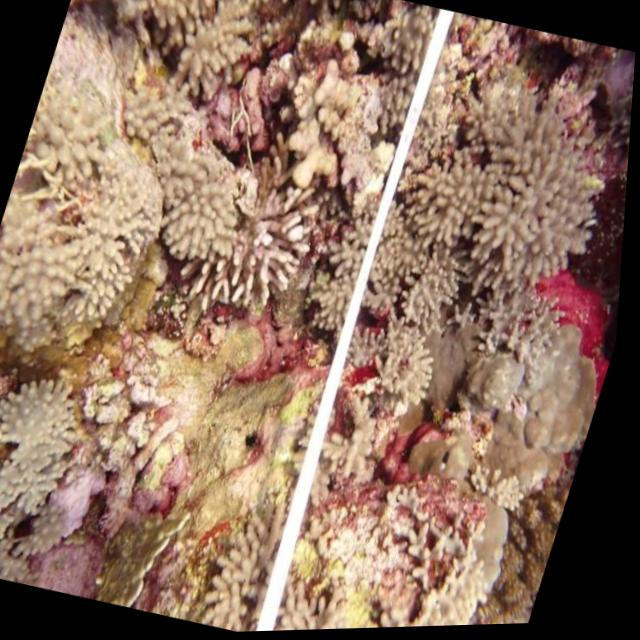Bleached Coral: (339, 45, 637, 376), (0, 32, 199, 380), (177, 166, 349, 346), (305, 439, 469, 624), (0, 349, 95, 585), (382, 540, 530, 630)
